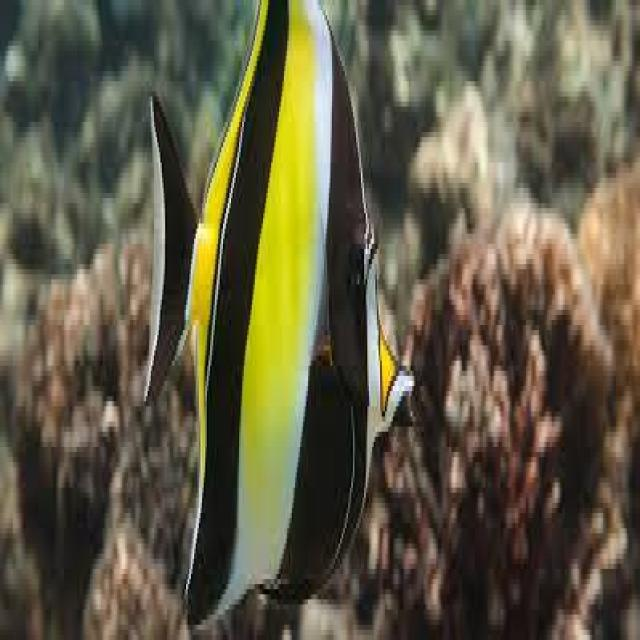MorishIdol: (140, 0, 416, 630)
